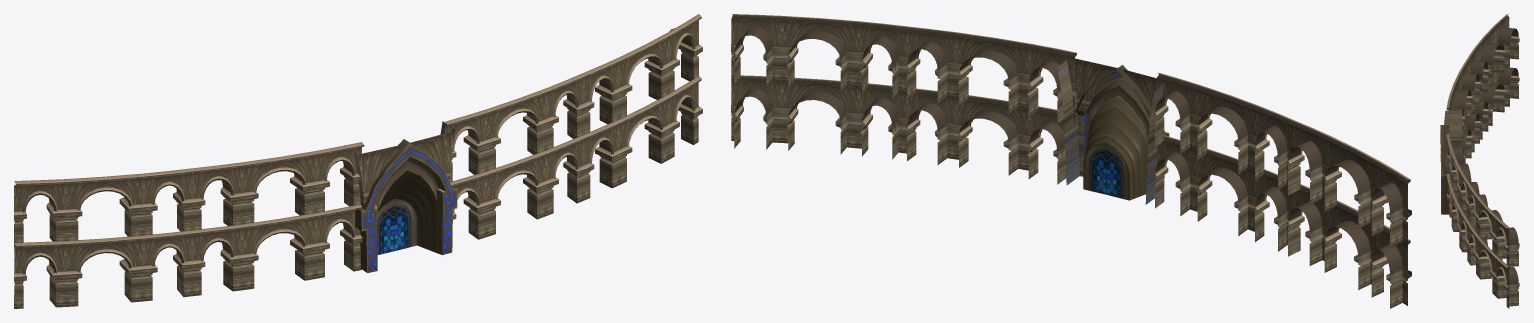
Rendered from SM_Town012_SZ.FBX.
The picture shows the model from 3 angles, left to right: view 1: azimuth 30°, elevation 25°; view 2: azimuth 150°, elevation 25°; view 3: azimuth 270°, elevation 25°; orthographic projection. The views are drawn at different scales.
Parts seen in each view (by area): view 1: SM_Town012_SZ; view 2: SM_Town012_SZ; view 3: SM_Town012_SZ.
Boxes of the visible parts, x1,y1,x2,y2 form: SM_Town012_SZ: (14,14,702,308); SM_Town012_SZ: (731,14,1411,308); SM_Town012_SZ: (1440,14,1519,308).
Bounding box in the file's own units: 8906 × 1581 × 1389.
1 material, 1 textured.
